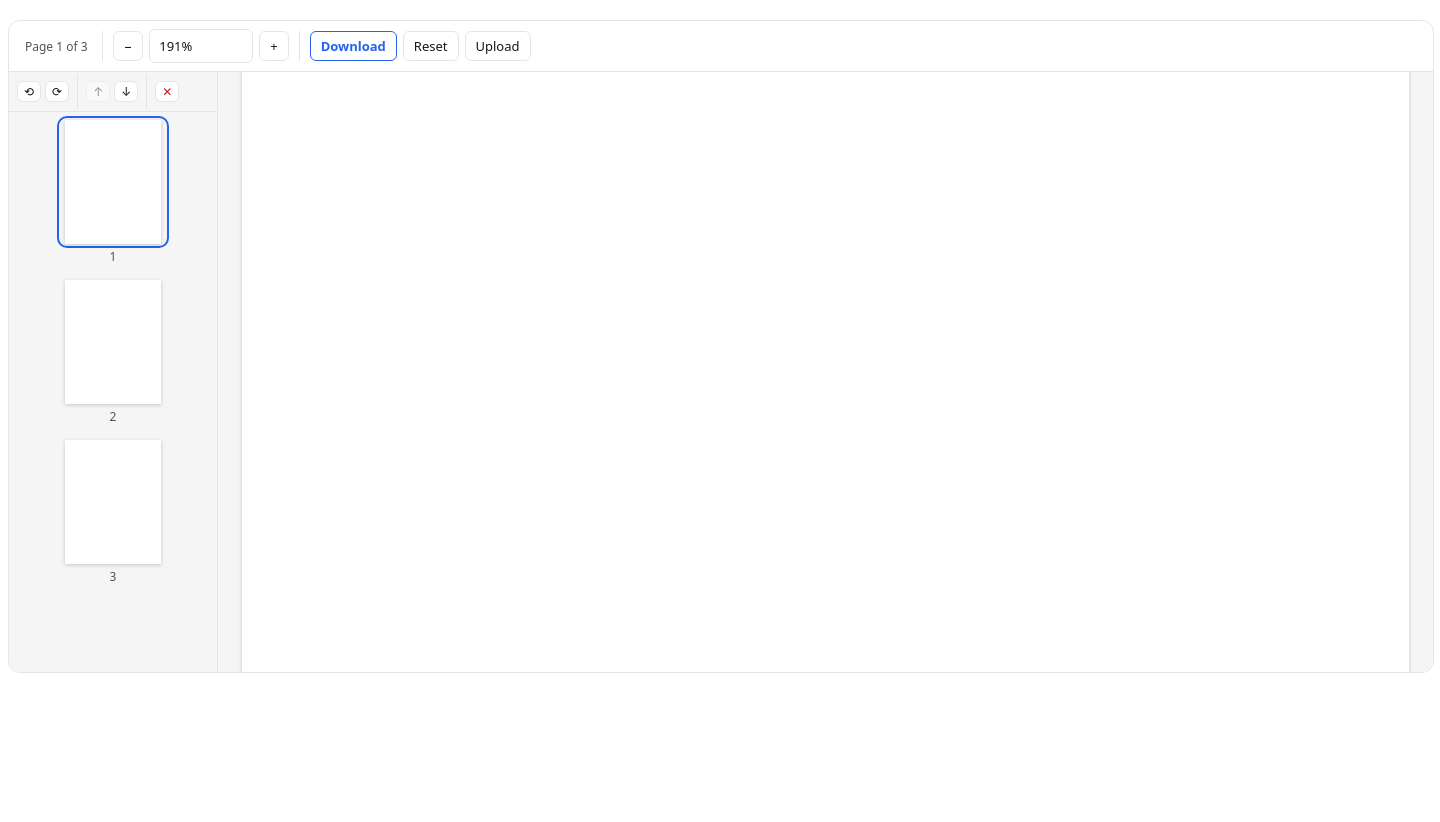
Test: PdfEditor › selects a page and reports the active page
(page scrolled)
Expected: the text "Page 1 of 3" is shown, [21, 38, 92, 54]
Click the option named "Page 2": (113, 352) [65, 280, 161, 425]
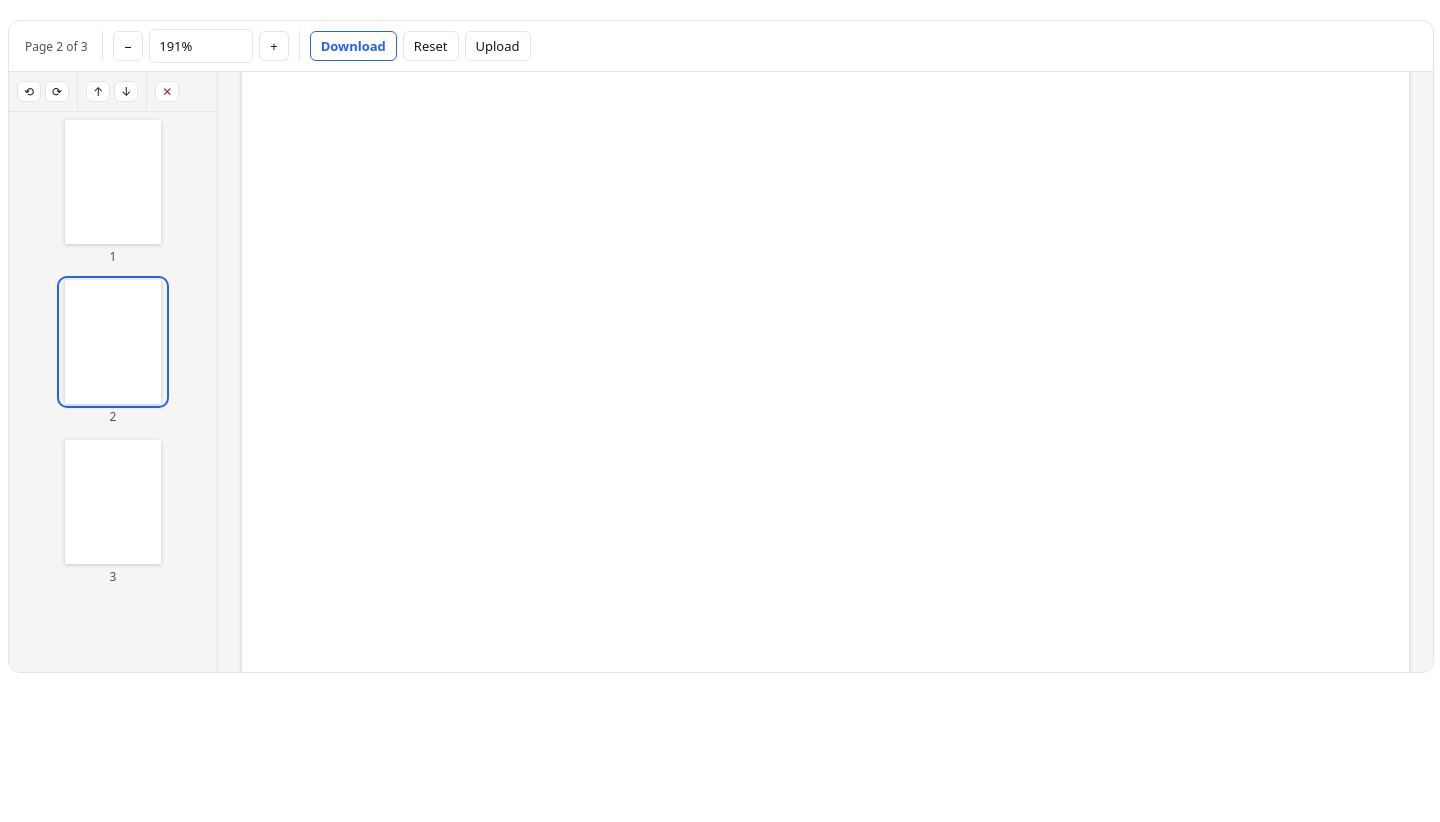
Result: the text with test id "pdf-editor-page-indicator" reads "Page 2 of 3" at [25, 38, 88, 54]
